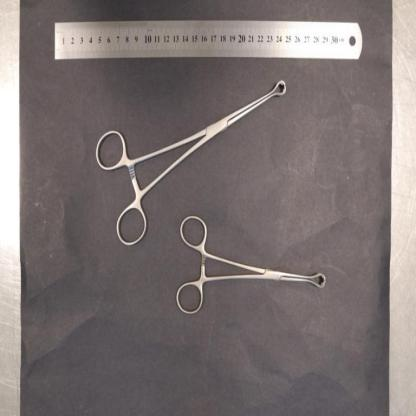8 Babcock Tissue Forceps: (96, 81, 286, 246)
Babcock Tissue Forceps: (175, 216, 325, 315)
